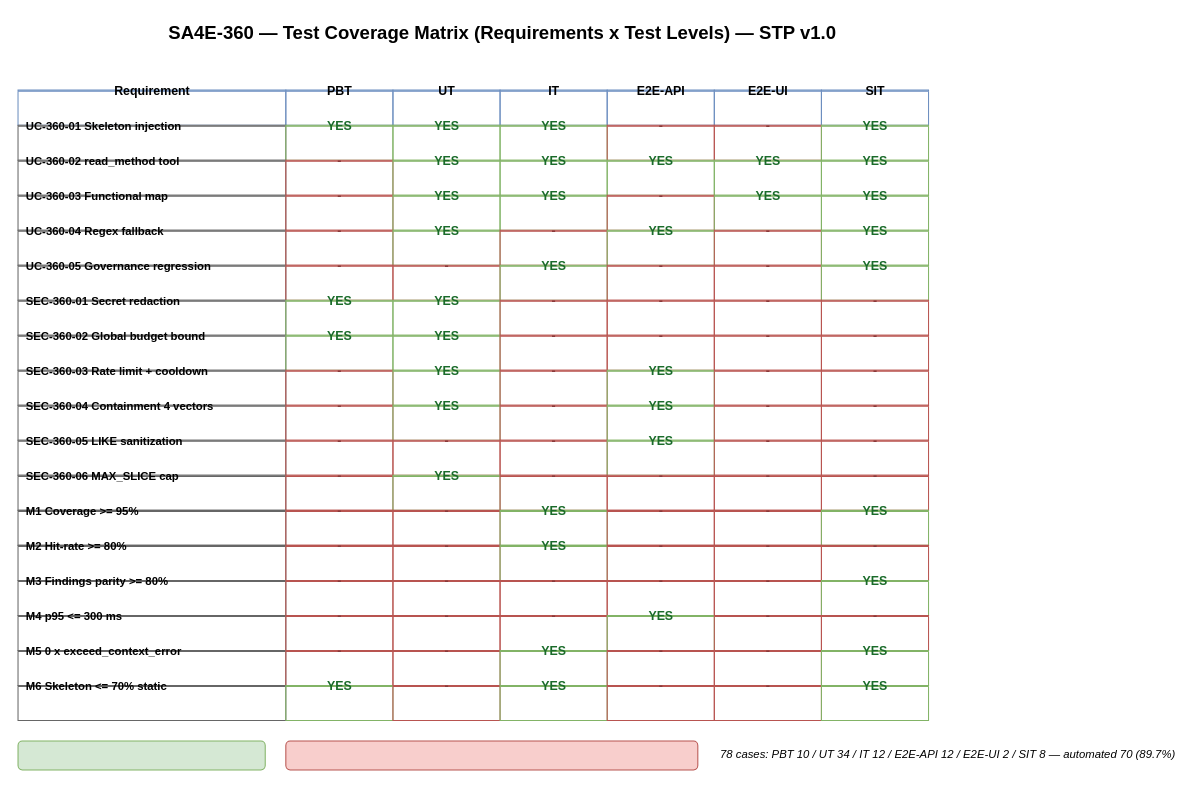
Image size: 1194x788. Some labels were removed from this diagram. Each missing label, with the box of its shape:
Covered by >= 1 test case: (17, 740, 265, 770)
Not covered at this level (by design — redundancy contract): (285, 740, 698, 770)
